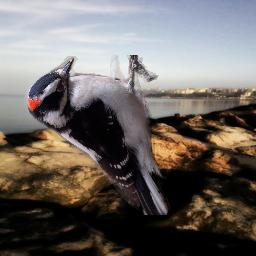Woodpecker: (24, 55, 170, 215)
